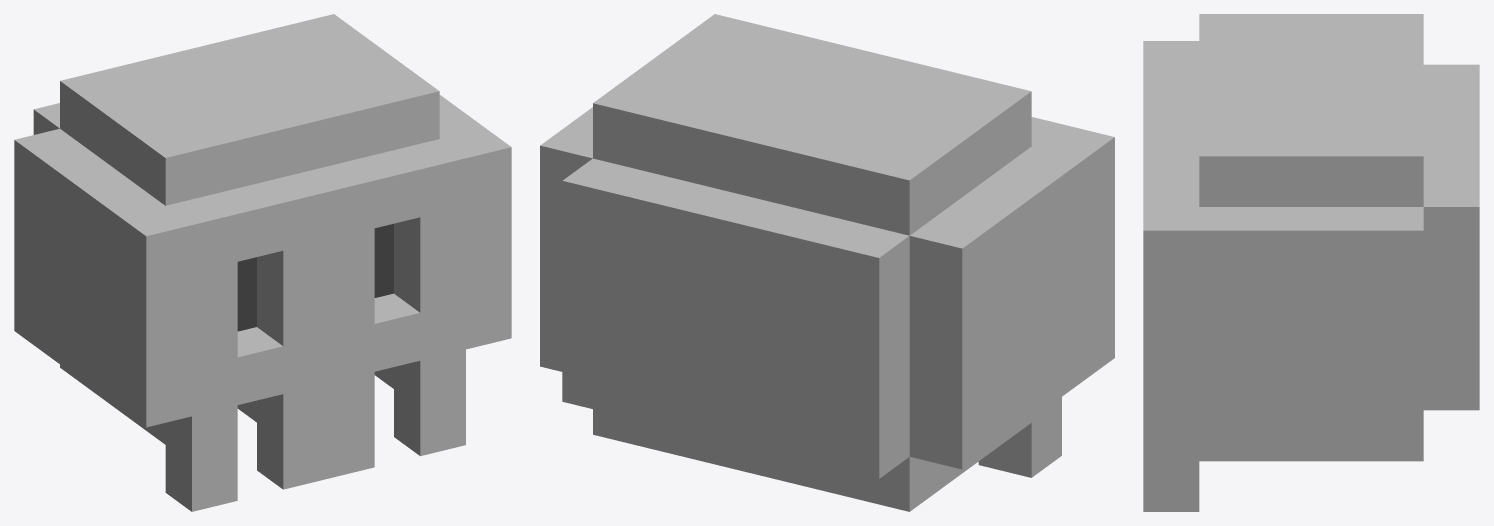
File: Skull.obj
3 views of the same model, side by side, from view 1: azimuth 30°, elevation 25°; view 2: azimuth 150°, elevation 25°; view 3: azimuth 270°, elevation 25° (orthographic). The views are drawn at different scales.
Visible parts, largest first — view 1: Skull; view 2: Skull; view 3: Skull.
Boxes of the visible parts, x1,y1,x2,y2 form: Skull: (14, 14, 511, 511); Skull: (540, 14, 1114, 511); Skull: (1143, 14, 1479, 511).
Size of the model in its own units: 8 by 7 by 6.
1 material, 1 textured.
